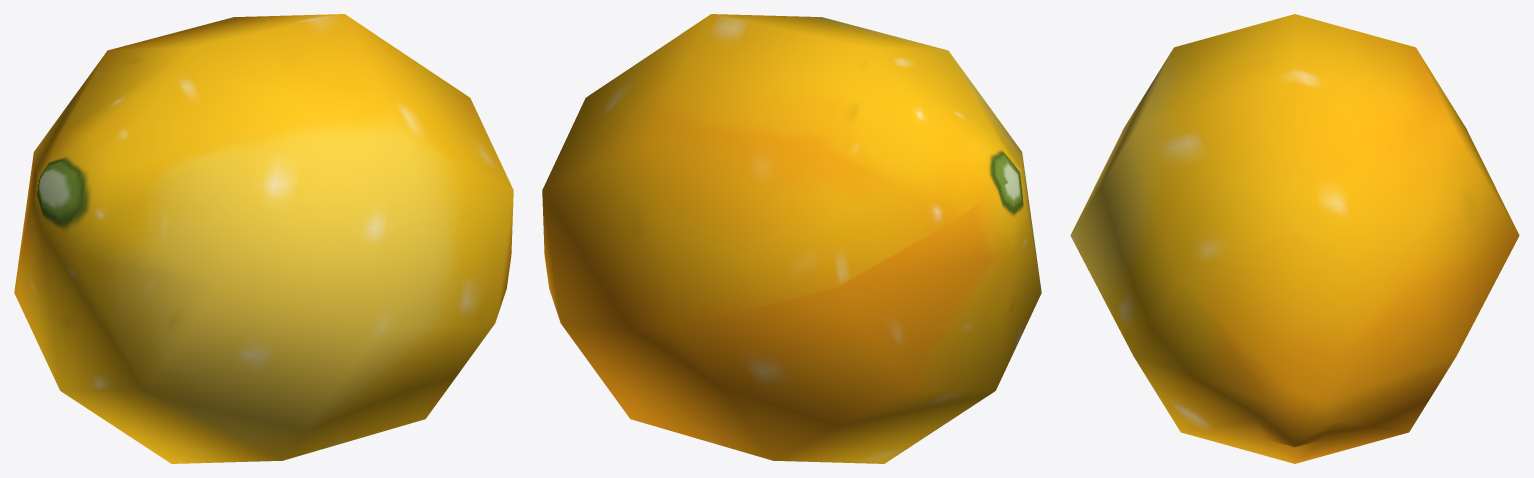
File: SM_PROP_food_lemon_02.FBX
The picture shows the model from 3 angles, left to right: view 1: azimuth 30°, elevation 25°; view 2: azimuth 150°, elevation 25°; view 3: azimuth 270°, elevation 25°; orthographic projection. The views are drawn at different scales.
Visible parts, largest first — view 1: SM_PROP_food_lemon_02; view 2: SM_PROP_food_lemon_02; view 3: SM_PROP_food_lemon_02.
Boxes of the visible parts, x1,y1,x2,y2 form: SM_PROP_food_lemon_02: [14, 14, 513, 463]; SM_PROP_food_lemon_02: [542, 14, 1041, 463]; SM_PROP_food_lemon_02: [1070, 14, 1519, 463].
Size of the model in its own units: 15.05 by 13.74 by 12.85.
